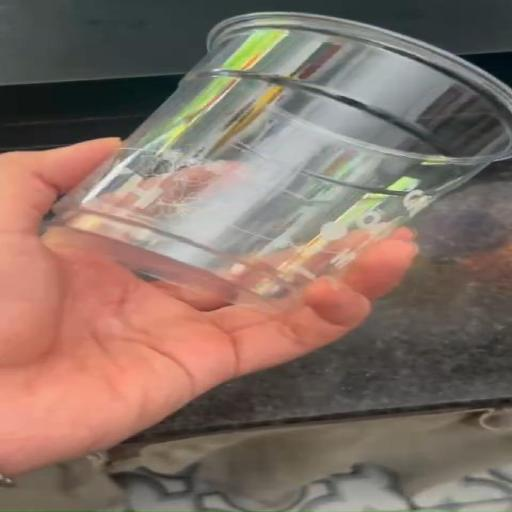ly_giay: (47, 12, 511, 308)
